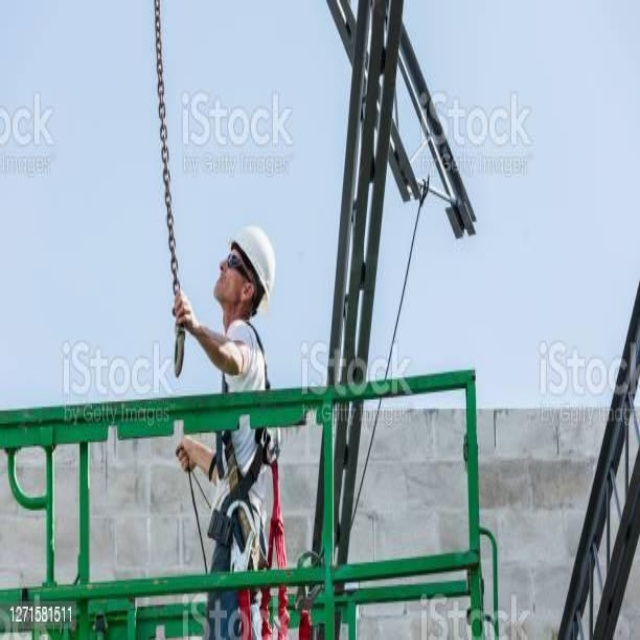Arnes_seguridad: (209, 314, 282, 547)
